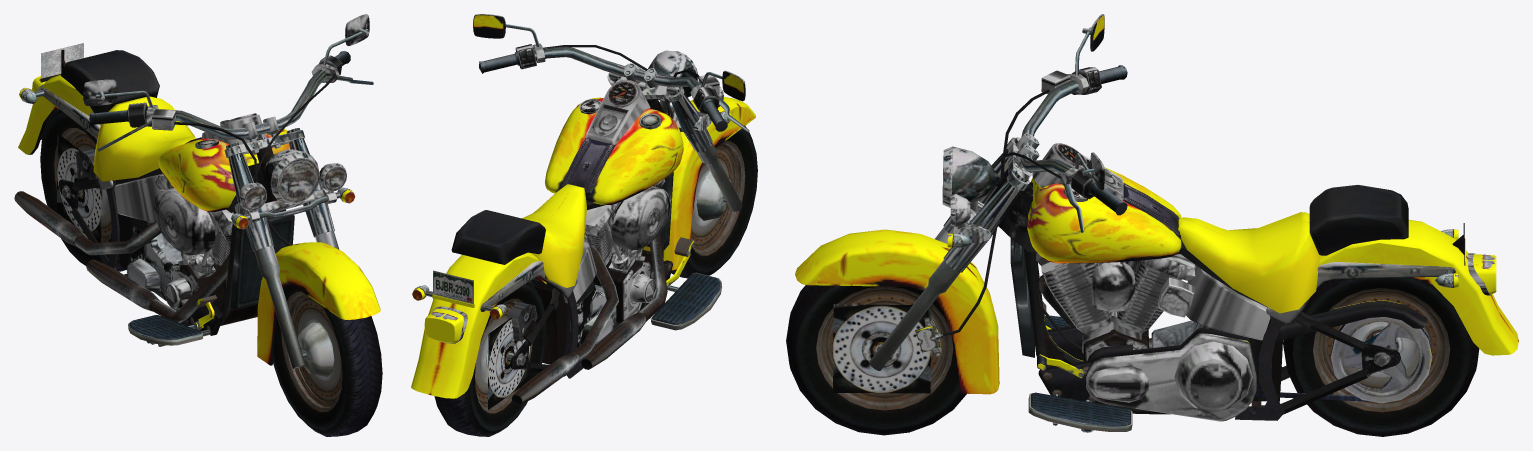
3 views of the same model, side by side, from view 1: azimuth 30°, elevation 25°; view 2: azimuth 150°, elevation 25°; view 3: azimuth 270°, elevation 25° (orthographic). The views are drawn at different scales.
Size of the model in its own units: 236 by 245 by 475.
Materials: 6 (6 with a texture image).
